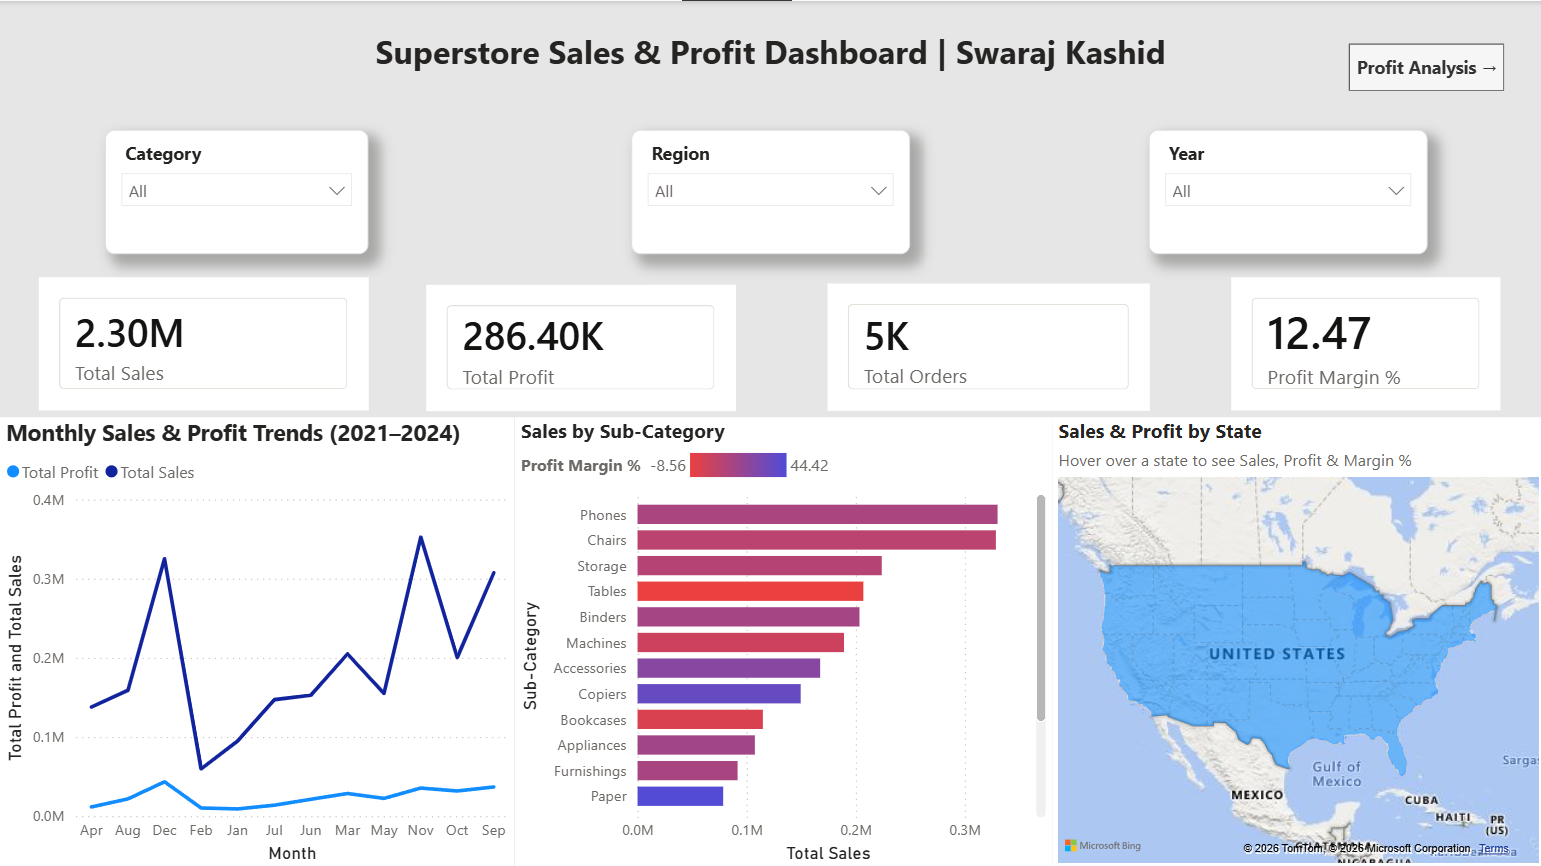

This screenshot's page, from the dashboard's own definition file:
{"tool":"powerbi","page":{"name":"Sales Overview","canvas":[1280,720],"ordinal":0},"visuals":[{"type":"cardVisual","fields":{"Data":["_Measures.Profit Margin %"]},"box":[1020.9,229.1,223.3,110.5],"z":0},{"type":"cardVisual","fields":{"Data":["_Measures.Total Sales"]},"box":[32.6,229.1,273.3,110.5],"z":1000},{"type":"cardVisual","fields":{"Data":["_Measures.Total Profit"]},"box":[353.5,234.9,257,104.7],"z":2000},{"type":"cardVisual","fields":{"Data":["_Measures.Total Orders"]},"box":[686,233.7,267.4,105.8],"z":3000},{"type":"lineChart","title":"Monthly Sales & Profit Trends (2021–2024)","fields":{"Category":["Date Table.Month"],"Y":["_Measures.Total Profit","_Measures.Total Sales"]},"box":[0,345.3,426.7,374.4],"z":4000},{"type":"clusteredBarChart","title":"Sales by Sub-Category","fields":{"Category":["Sample - Superstore.Sub-Category"],"Y":["_Measures.Total Sales"]},"box":[426.7,345.3,445.4,374.4],"z":5000},{"type":"filledMap","title":"Sales & Profit by State","fields":{"Category":["Sample - Superstore.State"]},"box":[872.1,345.3,408.1,374.4],"z":6000},{"type":"slicer","fields":{"Values":["Date Table.Year"]},"box":[952.3,107,231.4,103.5],"z":7000},{"type":"slicer","fields":{"Values":["Sample - Superstore.Category"]},"box":[87.2,107,218.6,103.5],"z":8000},{"type":"slicer","fields":{"Values":["Sample - Superstore.Region"]},"box":[523.3,107,231.4,103.5],"z":9000},{"type":"textbox","box":[305.8,18.6,666.3,55.8],"z":10000},{"type":"actionButton","box":[1118.6,34.9,129.1,39.5],"z":11000}]}

Visuals, with their boxes in screenshot pixels (x1, y1, x2, y2), scaled from the page's 1280x720 canvas onto the 1541x866 screenshot:
cardVisual - _Measures.Profit Margin %: [1229,276,1498,408]
cardVisual - _Measures.Total Sales: [39,276,368,408]
cardVisual - _Measures.Total Profit: [426,283,735,408]
cardVisual - _Measures.Total Orders: [826,281,1148,408]
"Monthly Sales & Profit Trends (2021–2024)" lineChart: [0,415,514,865]
"Sales by Sub-Category" clusteredBarChart: [514,415,1050,865]
"Sales & Profit by State" filledMap: [1050,415,1540,865]
slicer - Date Table.Year: [1146,129,1425,253]
slicer - Sample - Superstore.Category: [105,129,368,253]
slicer - Sample - Superstore.Region: [630,129,909,253]
textbox: [368,22,1170,89]
actionButton: [1347,42,1502,89]
